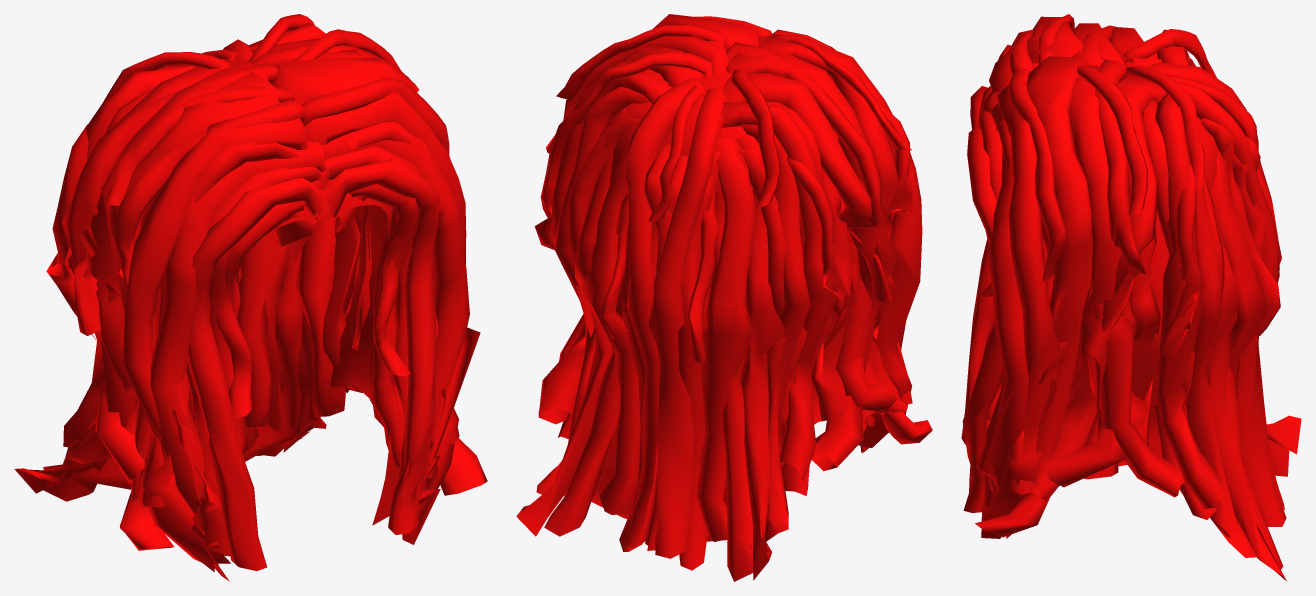
Rendered from punkduck_alpha7_curly_F.glb.
3 renders of one model, left to right at view 1: azimuth 30°, elevation 25°; view 2: azimuth 150°, elevation 25°; view 3: azimuth 270°, elevation 25°, orthographic. The views are drawn at different scales.
Bounding box in the file's own units: 0.317 × 0.4222 × 0.2666.
Materials: 1 (1 with a texture image).
